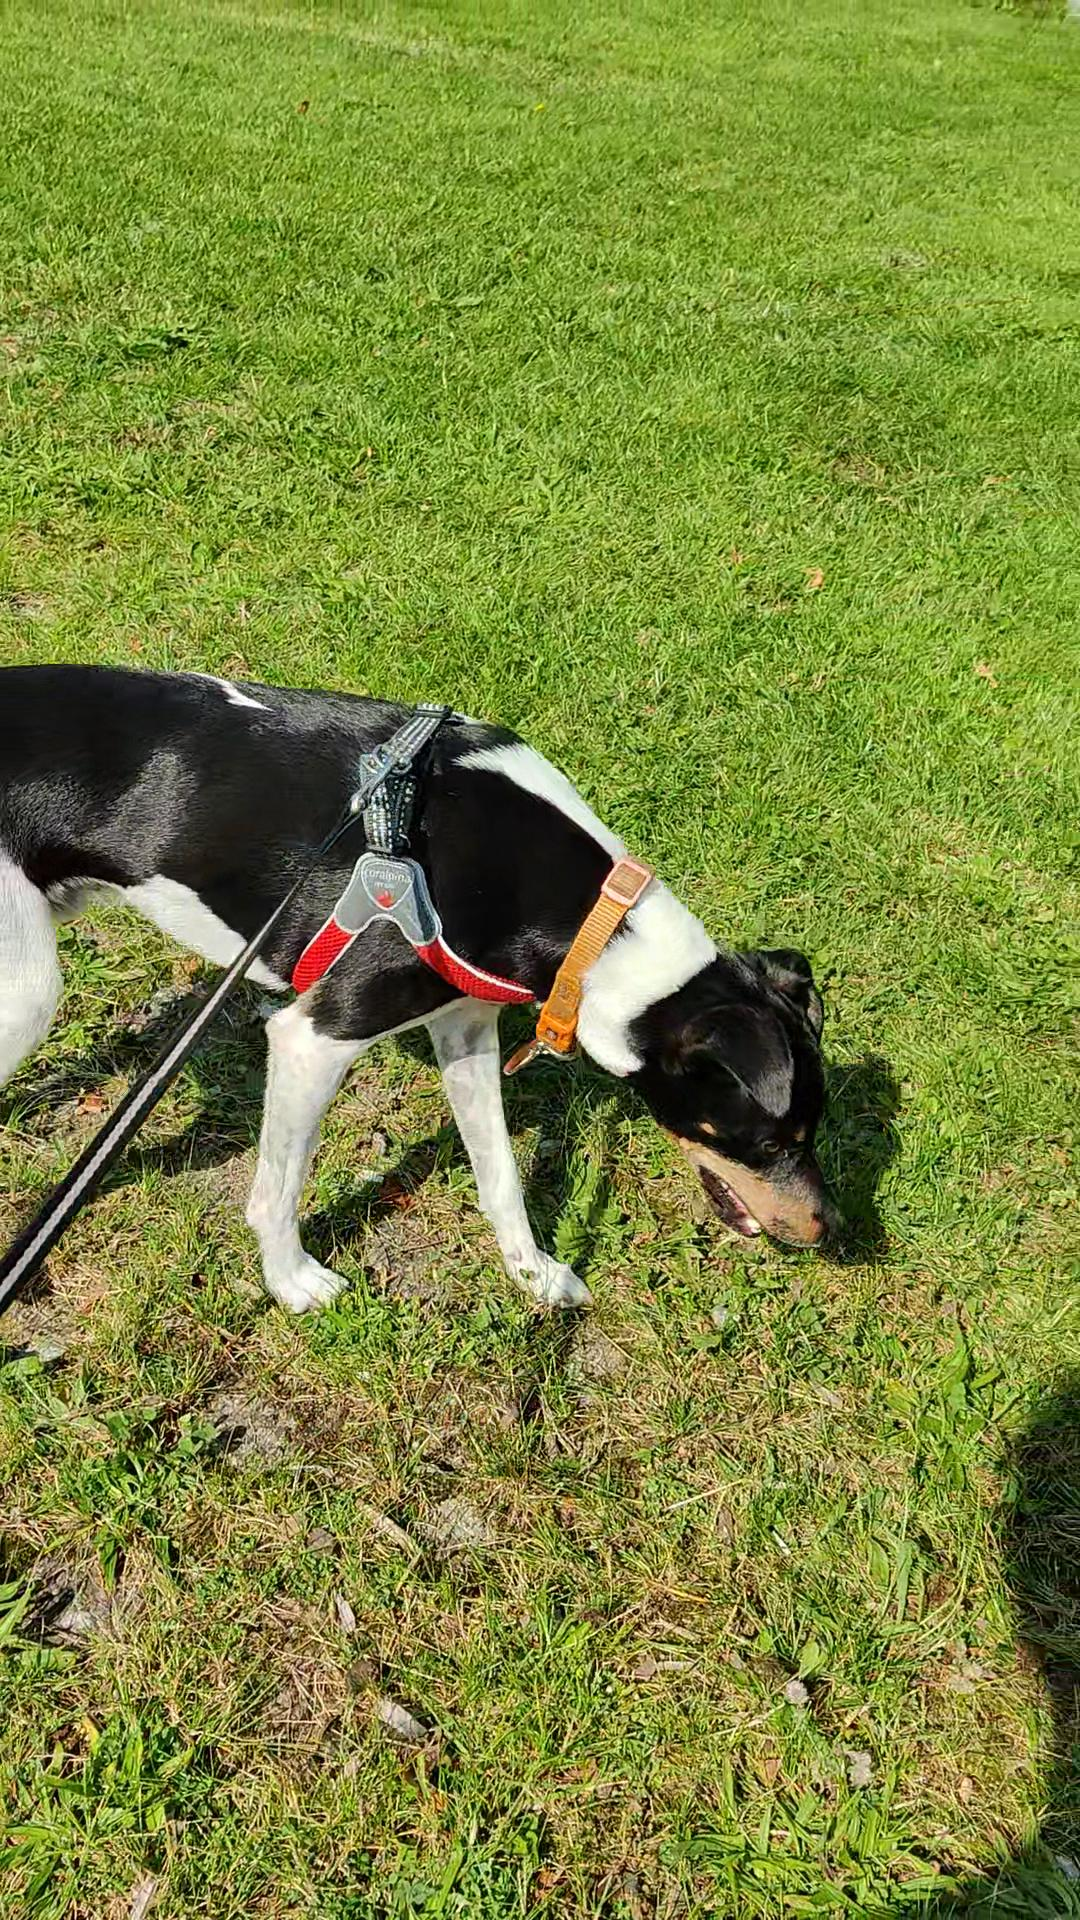Dog: (0, 654, 868, 1320)
